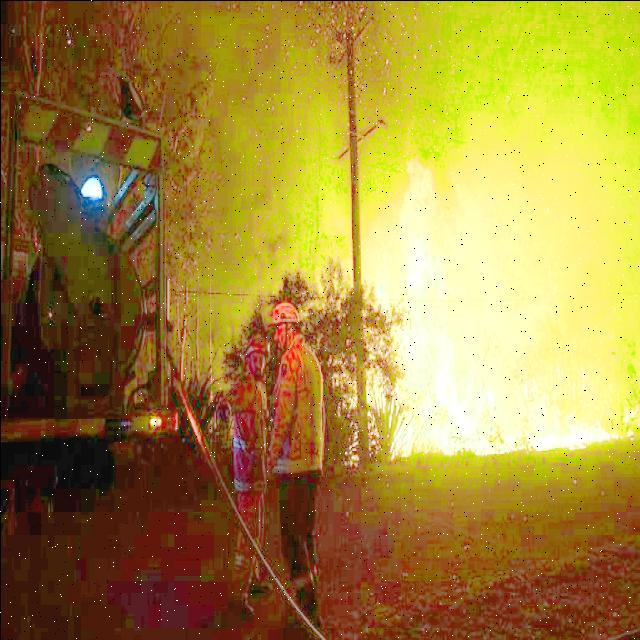api: (395, 190, 469, 472), (476, 379, 612, 454), (376, 261, 391, 319)
asap: (465, 12, 640, 371)
